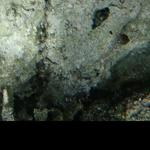dead: (1, 1, 145, 119)
